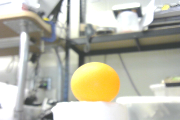PingPongBall: (72, 62, 120, 102)
